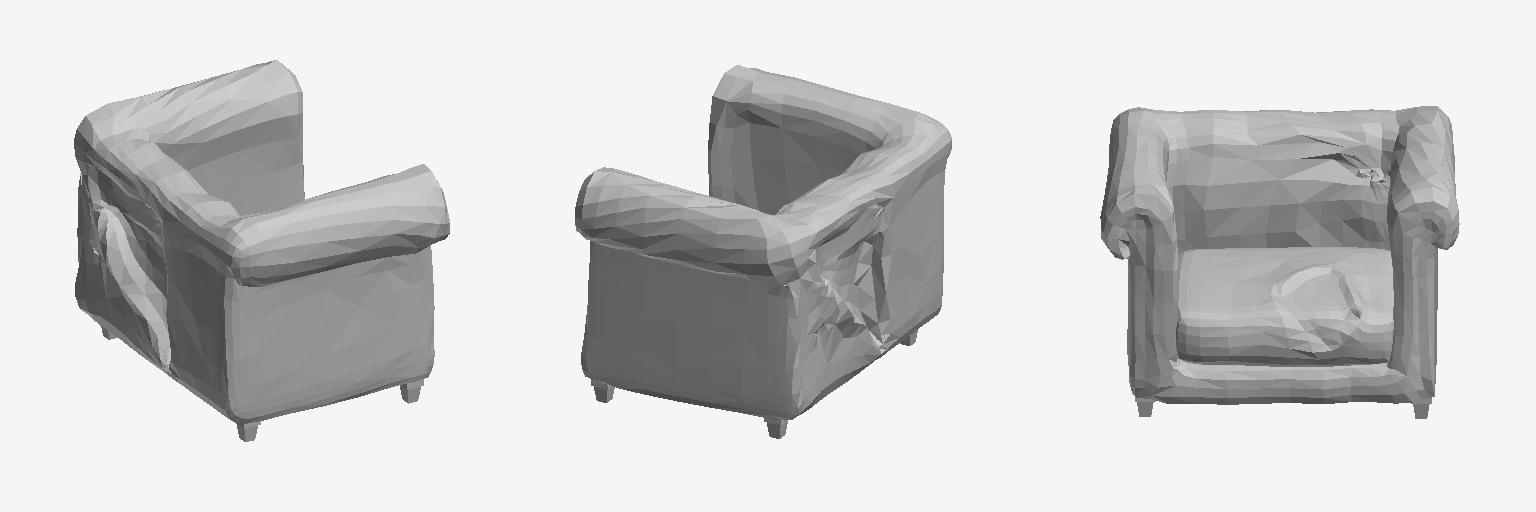
The model's file is FullChair.obj.
The picture shows the model from 3 angles: view 1: azimuth 30°, elevation 25°; view 2: azimuth 150°, elevation 25°; view 3: azimuth 270°, elevation 25°; orthographic projection.
Parts seen in each view (by area): view 1: ChairLowPolyObjExport3:RoadKillOut; view 2: ChairLowPolyObjExport3:RoadKillOut; view 3: ChairLowPolyObjExport3:RoadKillOut, SeatLowPoly1:RoadKillOut.
Part boxes in pixels (x1,y1,x2,y2): ChairLowPolyObjExport3:RoadKillOut: (74,60,449,423); ChairLowPolyObjExport3:RoadKillOut: (575,65,951,420); ChairLowPolyObjExport3:RoadKillOut: (1100,106,1459,404); SeatLowPoly1:RoadKillOut: (1176,247,1393,366).
Bounding box in the file's own units: 9.18 × 8.96 × 12.47.